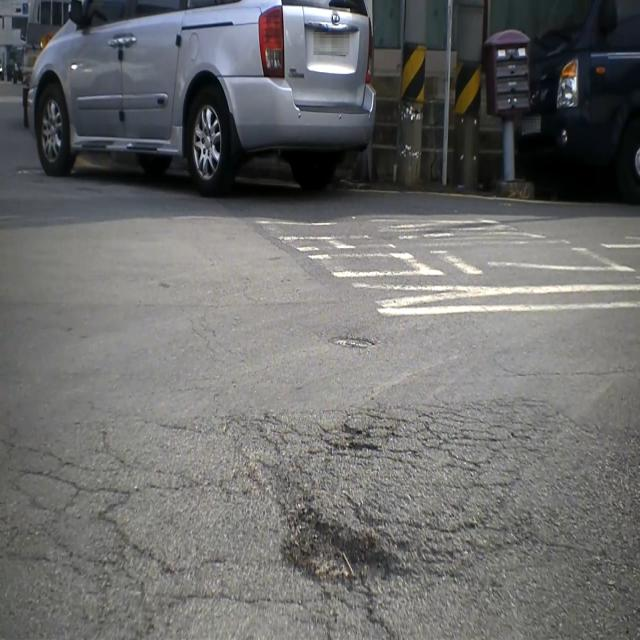Pothole: (272, 498, 414, 604)
